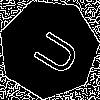U: (23, 23, 82, 79)
